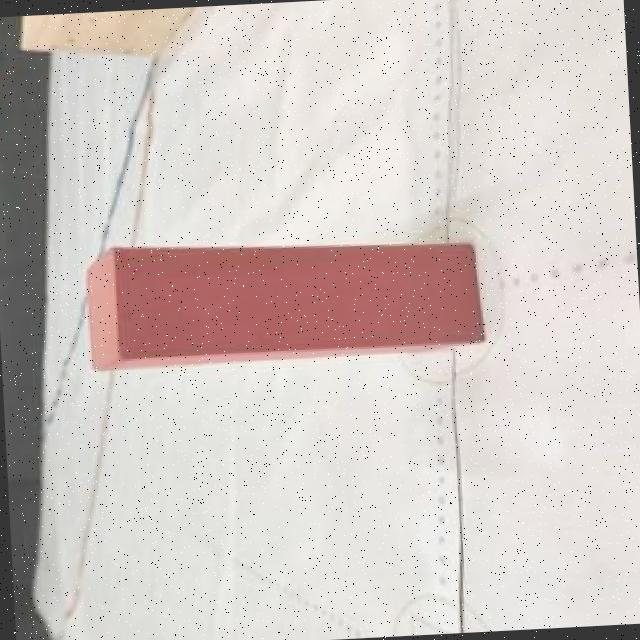redbox: (86, 226, 483, 372)
